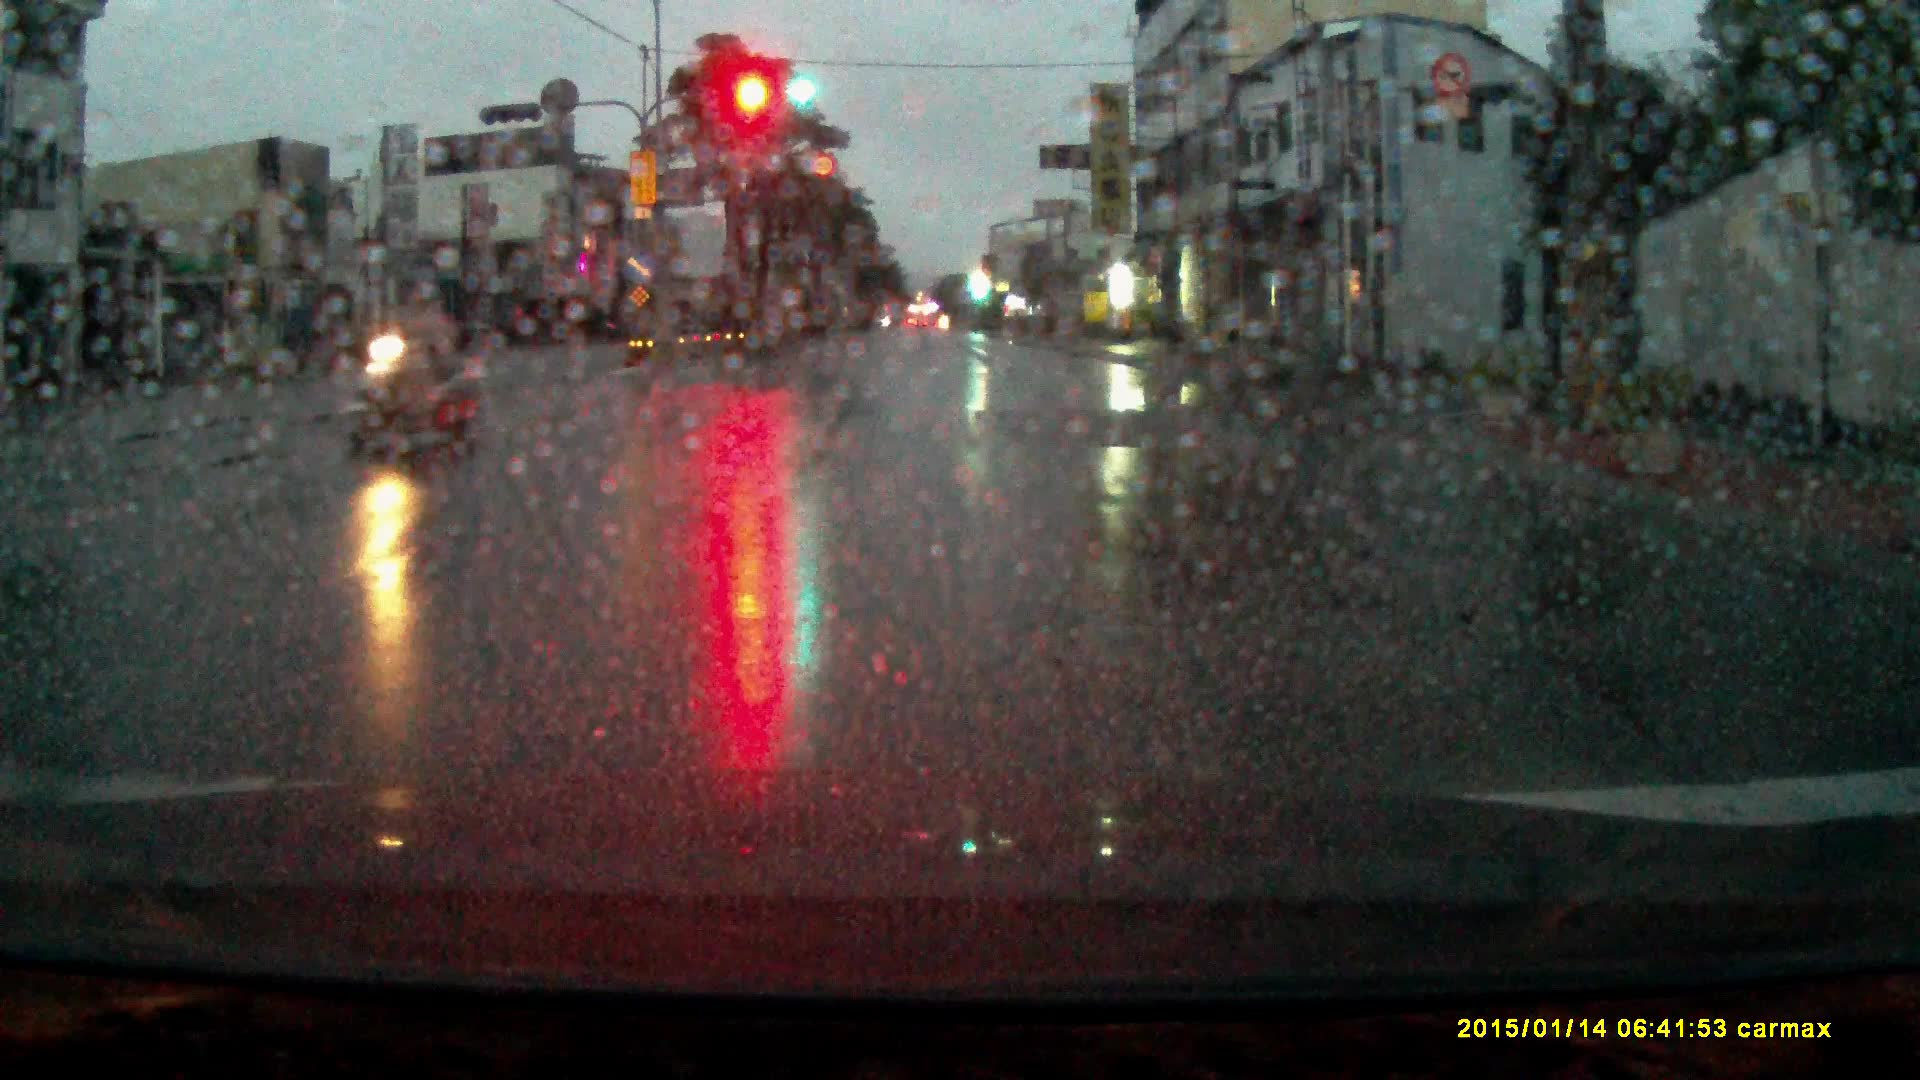rider: (337, 271, 476, 455)
